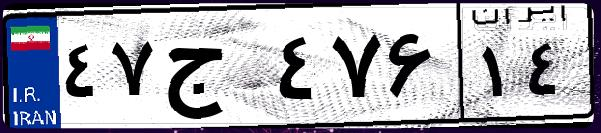1: (475, 38, 525, 113)
4: (270, 28, 330, 110), (57, 26, 110, 100), (525, 38, 570, 115)
6: (385, 28, 445, 110)
7: (330, 28, 385, 110), (110, 28, 158, 98)
ج: (158, 20, 270, 120)
